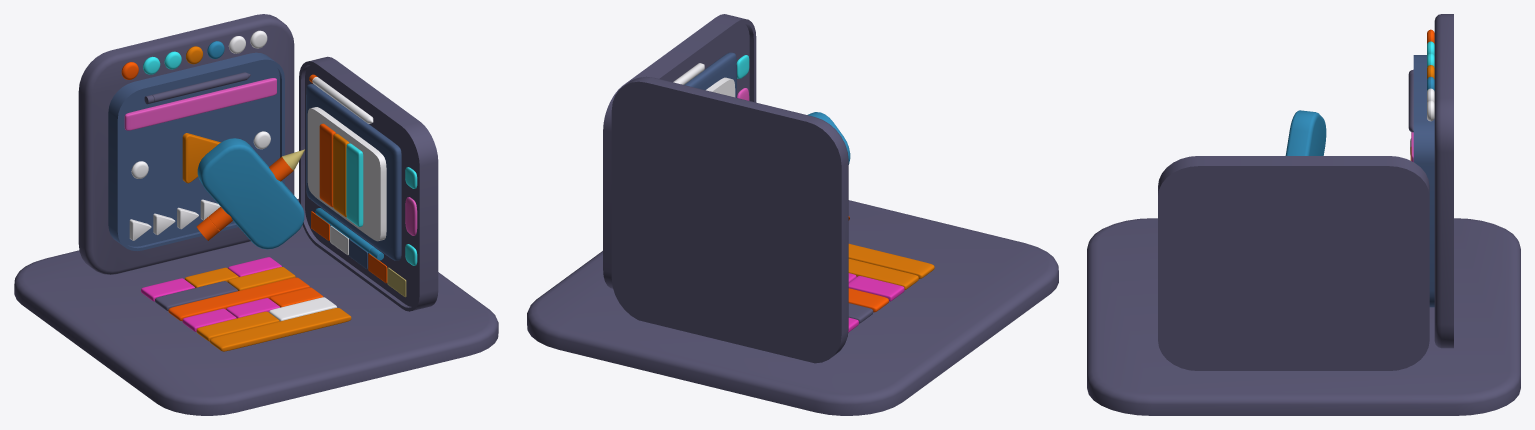
Rendered from Editing.glb.
3 views of the same model, side by side, from view 1: azimuth 30°, elevation 25°; view 2: azimuth 150°, elevation 25°; view 3: azimuth 270°, elevation 25° (orthographic). The views are drawn at different scales.
Parts seen in each view (by area): view 1: Pencil; view 2: Pencil; view 3: Pencil.
Part boxes in pixels (x1=…): Pencil: x1=14, y1=14, x2=498, y2=415; Pencil: x1=527, y1=14, x2=1058, y2=415; Pencil: x1=1087, y1=14, x2=1520, y2=415.
Size of the model in its own units: 3.19 by 2.13 by 3.19.
